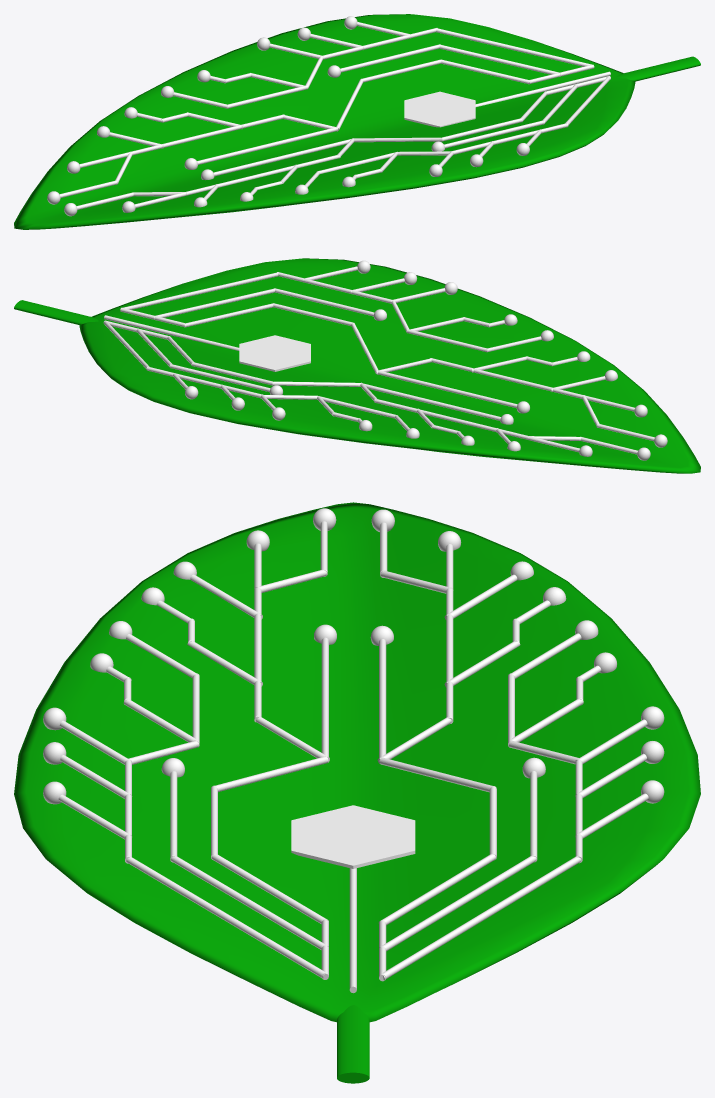
Rendered from AILeaf.fbx.
3 views of the same model, one above another, from view 1: azimuth 30°, elevation 25°; view 2: azimuth 150°, elevation 25°; view 3: azimuth 270°, elevation 25° (orthographic). The views are drawn at different scales.
Parts seen in each view (by area): view 1: Plane, Cylinder.053, Cylinder.006, Cylinder.032, Cylinder.054, Cylinder.008, Cylinder.004, Cylinder.030, Cylinder.052, Cylinder.020, Cylinder.009, Cylinder.035 (+7 smaller); view 2: Plane, Cylinder.053, Cylinder.032, Cylinder.006, Cylinder.054, Cylinder.034, Cylinder.030, Cylinder.004, Cylinder.052, Cylinder.046, Cylinder.035, Cylinder.009 (+8 smaller); view 3: Plane, Cylinder.053, Cylinder.054, Cylinder.008, Cylinder.034, Cylinder.032, Cylinder.006, Cylinder.020, Cylinder.046, Cylinder.001, Cylinder.027, Cylinder.052 (+4 smaller).
Part boxes in pixels (x1,y1,x2,y2): Plane: [14, 14, 635, 229]; Cylinder.053: [404, 91, 475, 127]; Cylinder.006: [79, 114, 284, 167]; Cylinder.032: [135, 154, 340, 207]; Cylinder.054: [616, 56, 700, 81]; Cylinder.008: [436, 28, 592, 66]; Cylinder.004: [197, 127, 336, 164]; Cylinder.030: [213, 139, 351, 176]; Cylinder.052: [475, 71, 610, 106]; Cylinder.020: [439, 44, 560, 76]; Cylinder.009: [322, 28, 437, 59]; Cylinder.035: [452, 123, 568, 154]; Plane: [79, 258, 700, 473]; Cylinder.053: [239, 335, 310, 371]; Cylinder.032: [430, 358, 634, 411]; Cylinder.006: [374, 398, 579, 452]; Cylinder.054: [14, 300, 98, 325]; Cylinder.034: [121, 272, 278, 309]; Cylinder.030: [378, 370, 517, 408]; Cylinder.004: [363, 383, 500, 420]; Cylinder.052: [104, 315, 239, 350]; Cylinder.046: [154, 288, 274, 319]; Cylinder.035: [277, 272, 392, 303]; Cylinder.009: [146, 366, 263, 398]; Plane: [14, 502, 700, 1022]; Cylinder.053: [291, 805, 415, 868]; Cylinder.054: [337, 1005, 369, 1083]; Cylinder.008: [381, 855, 581, 980]; Cylinder.034: [126, 855, 326, 978]; Cylinder.032: [254, 543, 261, 722]; Cylinder.006: [446, 544, 453, 724]; Cylinder.020: [379, 854, 536, 951]; Cylinder.046: [170, 855, 328, 949]; Cylinder.001: [378, 854, 495, 925]; Cylinder.027: [211, 853, 328, 923]; Cylinder.052: [349, 868, 356, 993].
Size of the model in its own units: 1057 by 77.1 by 531.
